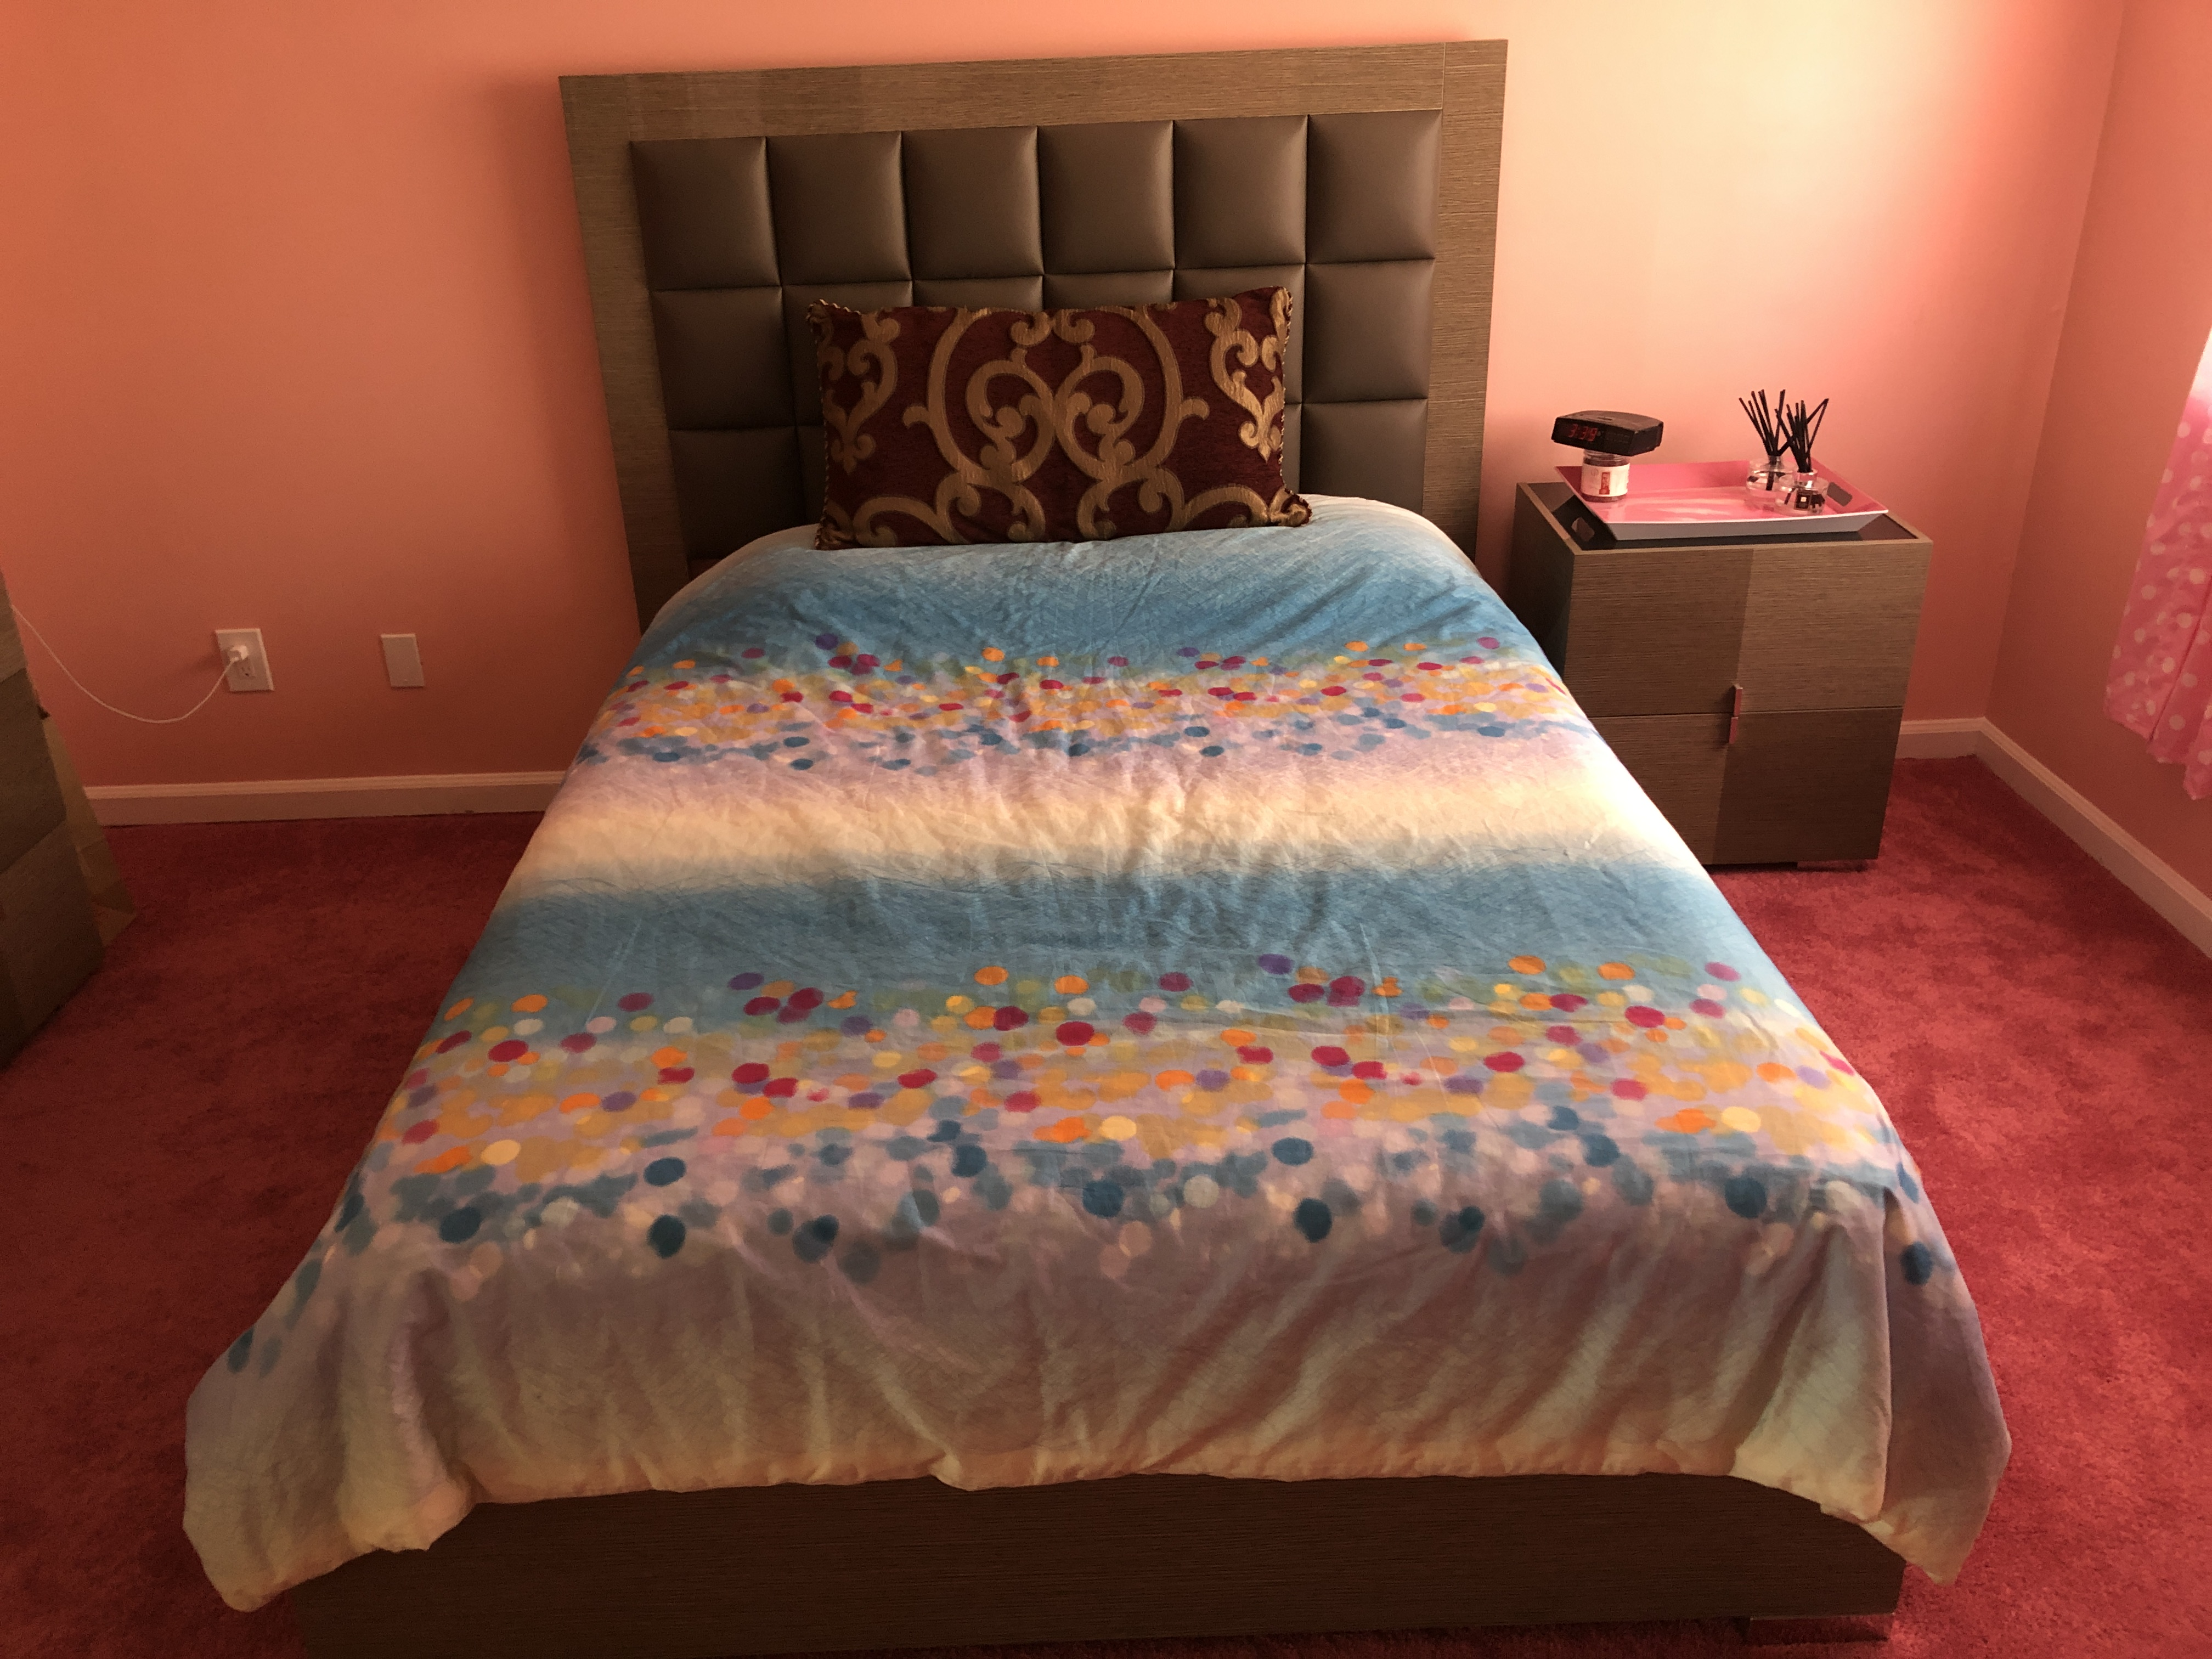bed: (354, 64, 1925, 1659)
night stand: (1515, 472, 1930, 897)
